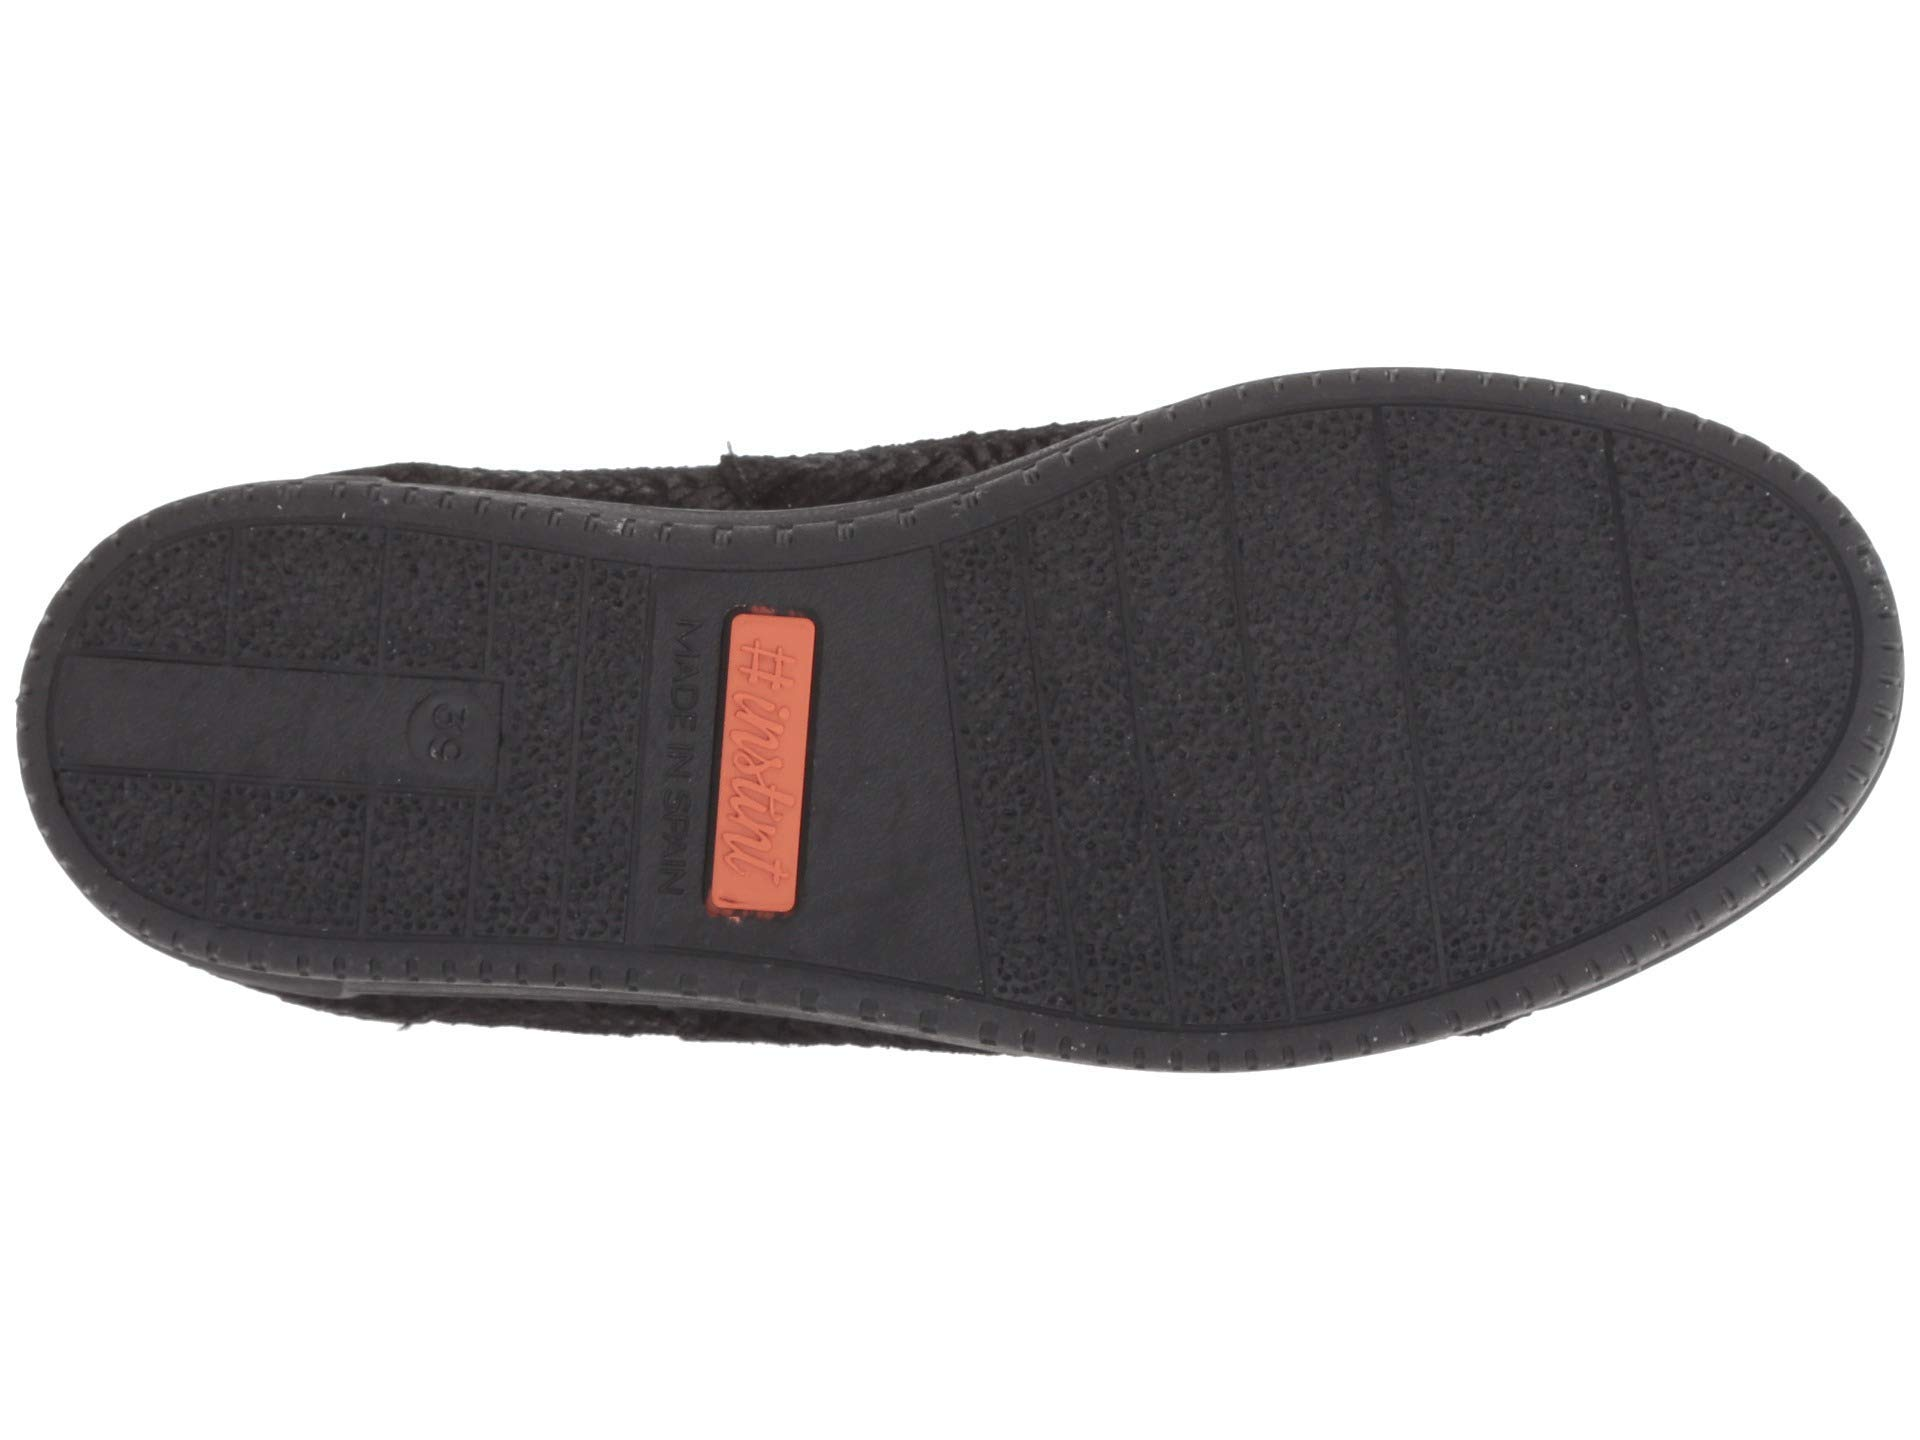quad: (608, 569, 904, 933)
text: (608, 569, 904, 933)
